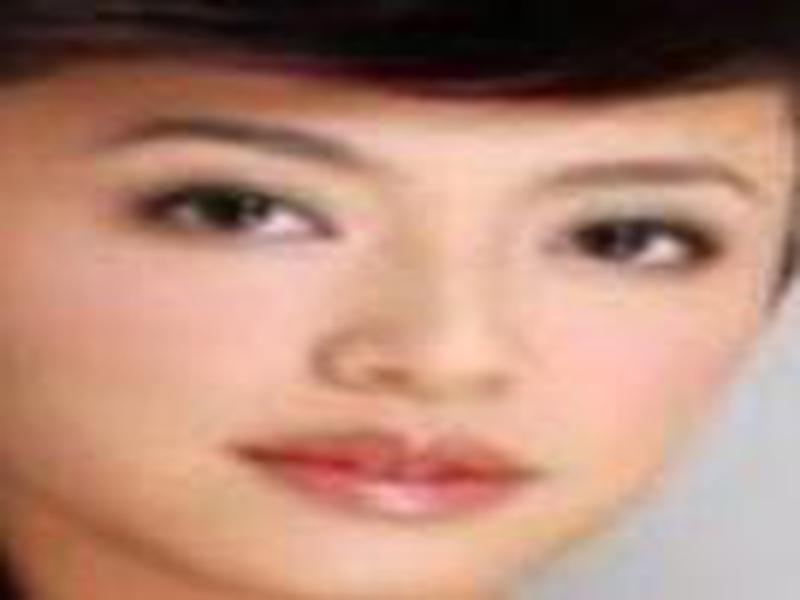without_mask: (16, 29, 799, 600)
